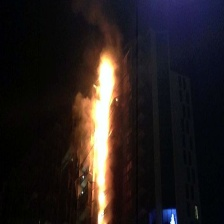fire: (77, 50, 118, 224)
